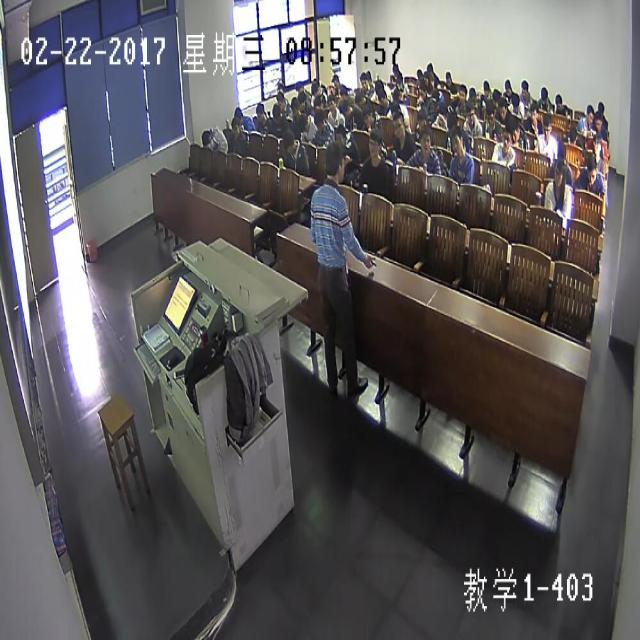person: (324, 143, 344, 184), (552, 159, 564, 189), (368, 129, 380, 158), (418, 128, 431, 154), (392, 111, 404, 138), (445, 111, 457, 138), (451, 128, 463, 154), (586, 157, 596, 185), (314, 113, 326, 134), (556, 140, 566, 165), (284, 130, 294, 154), (502, 125, 512, 149), (200, 127, 211, 148), (334, 125, 346, 144), (485, 103, 495, 125), (289, 96, 298, 120), (592, 113, 603, 132), (416, 110, 427, 128), (593, 134, 601, 158), (362, 105, 372, 124), (568, 125, 577, 146), (511, 120, 520, 141), (542, 115, 550, 138), (519, 78, 528, 98), (481, 80, 493, 95), (297, 95, 306, 115), (327, 94, 336, 114), (310, 78, 320, 96), (342, 98, 352, 116), (374, 78, 384, 96), (354, 90, 364, 108), (359, 71, 370, 87), (412, 66, 423, 82), (529, 103, 538, 122), (458, 83, 466, 104), (428, 57, 436, 78), (230, 116, 239, 134), (233, 106, 242, 124), (466, 104, 475, 122), (498, 100, 507, 118), (271, 102, 280, 120), (256, 100, 264, 120), (585, 103, 593, 123), (392, 60, 399, 82), (331, 72, 340, 89), (468, 85, 476, 104), (554, 92, 562, 110), (301, 118, 310, 134), (418, 82, 426, 100), (437, 102, 445, 120), (276, 90, 284, 106), (294, 79, 302, 95), (377, 90, 385, 106), (511, 94, 518, 112), (597, 100, 604, 118), (540, 86, 547, 103), (504, 79, 511, 96), (445, 71, 452, 88)
